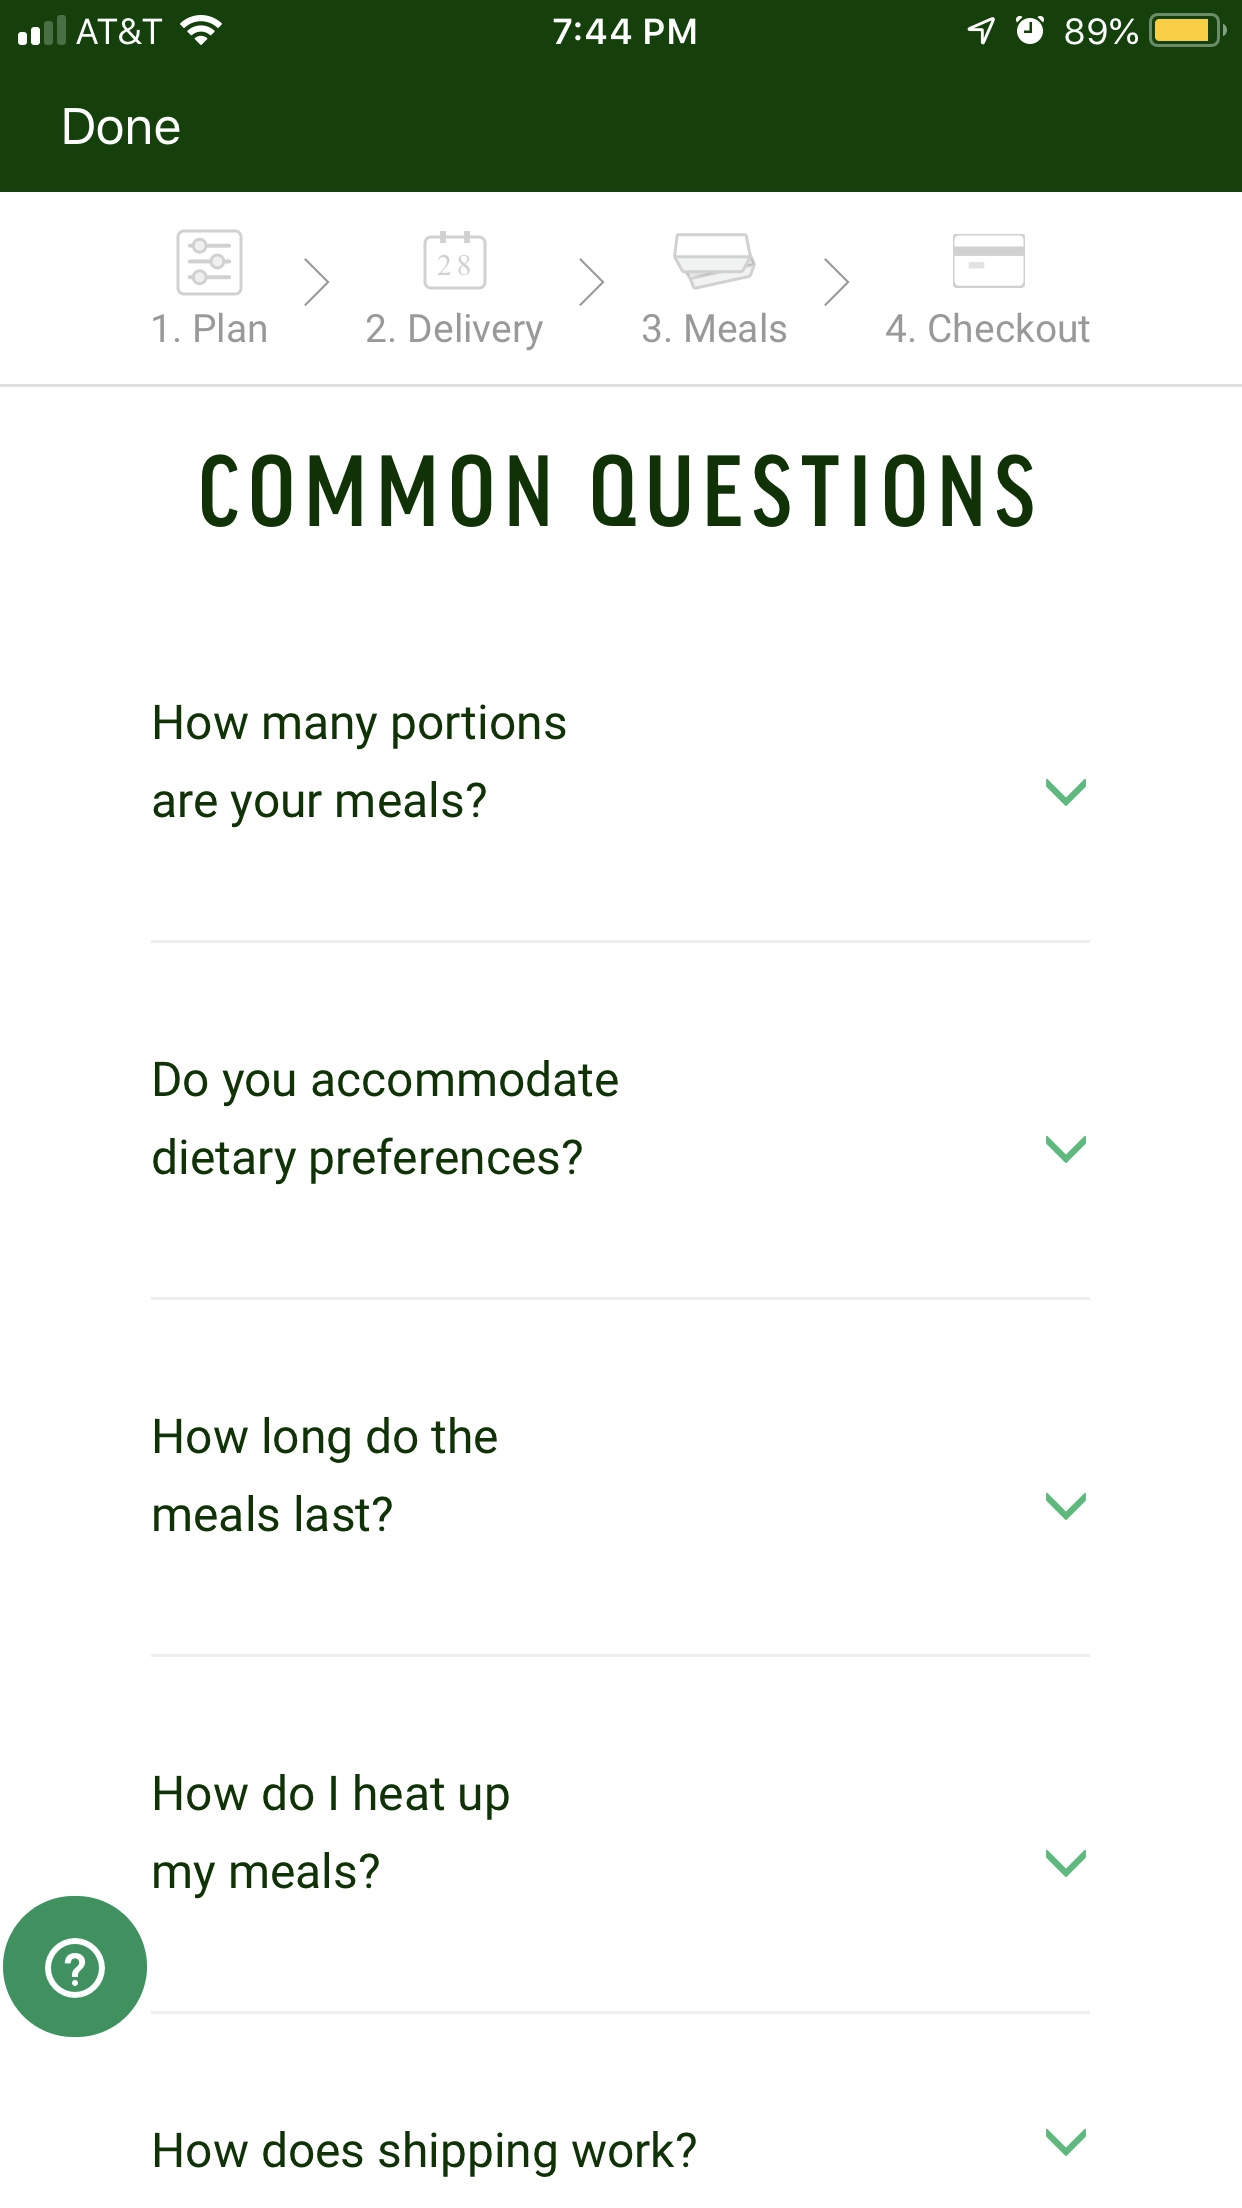Icon: (5, 1896, 149, 2038), (177, 229, 244, 297), (952, 234, 1027, 290), (423, 231, 488, 291), (303, 259, 331, 308), (579, 258, 607, 306), (823, 259, 851, 308), (1045, 1134, 1087, 1165), (1045, 2128, 1087, 2156), (1045, 1849, 1087, 1877), (1045, 1492, 1087, 1521), (1045, 778, 1087, 807)
Image: (673, 232, 757, 291)
Text: (202, 453, 1034, 529), (153, 1059, 620, 1186), (153, 704, 567, 830), (155, 1773, 511, 1899), (155, 1416, 499, 1533), (155, 2131, 698, 2178), (365, 312, 544, 352), (886, 312, 1090, 344), (641, 312, 787, 344), (64, 108, 180, 147), (153, 312, 267, 344)
UpperTaskBar: (2, 2, 1242, 49)
